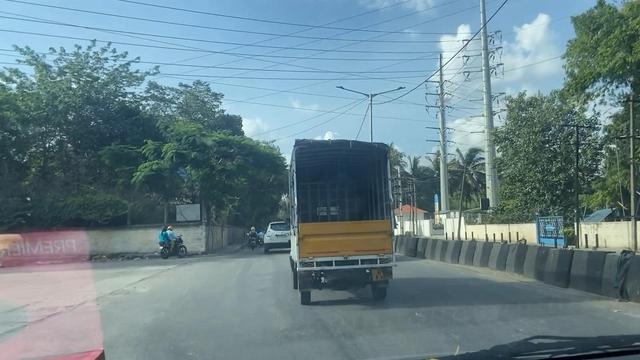HMV: (290, 141, 388, 303)
RoadDamages: (12, 263, 174, 336)
